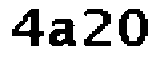0: (117, 6, 151, 52)
2: (80, 2, 115, 53)
4: (8, 3, 46, 52)
a: (47, 15, 80, 52)
